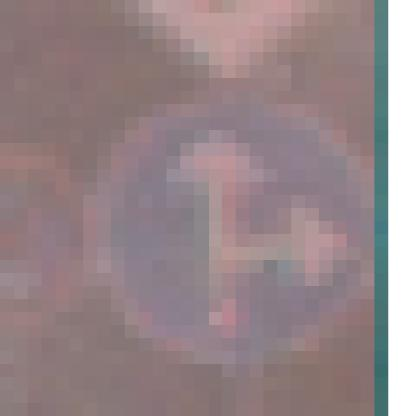Straight or Right: (84, 79, 389, 352)
